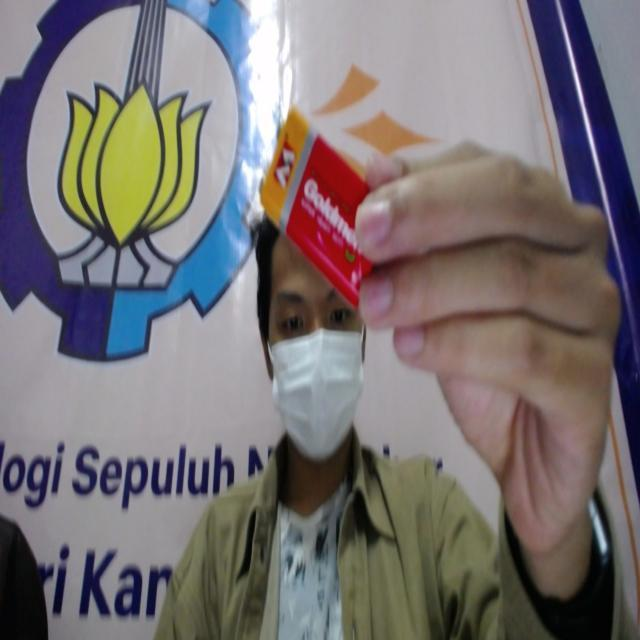Hazard: (258, 103, 375, 309)
